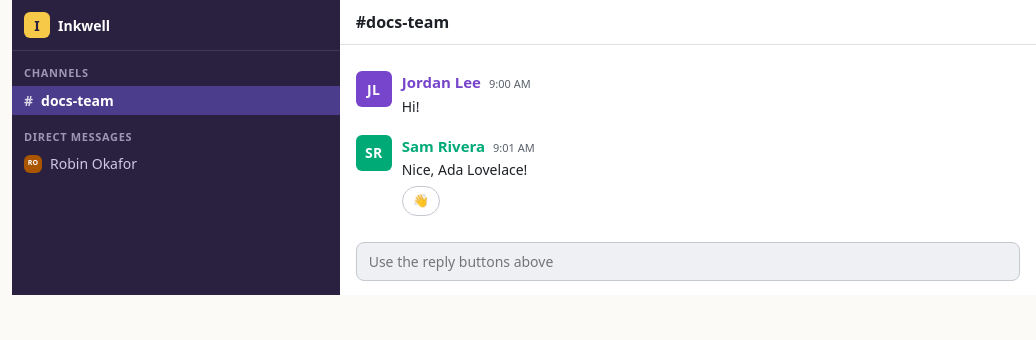
Test: Flack › quick replies post your message once and then disappear
Click the button "👋".
click(421, 201)  # box left=402, top=186, right=440, bottom=216
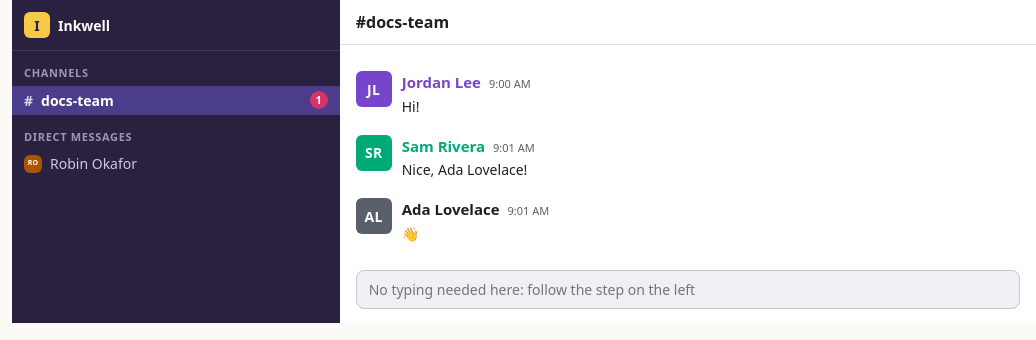
Now the text "Ada Lovelace" is shown, box left=402, top=198, right=500, bottom=220
